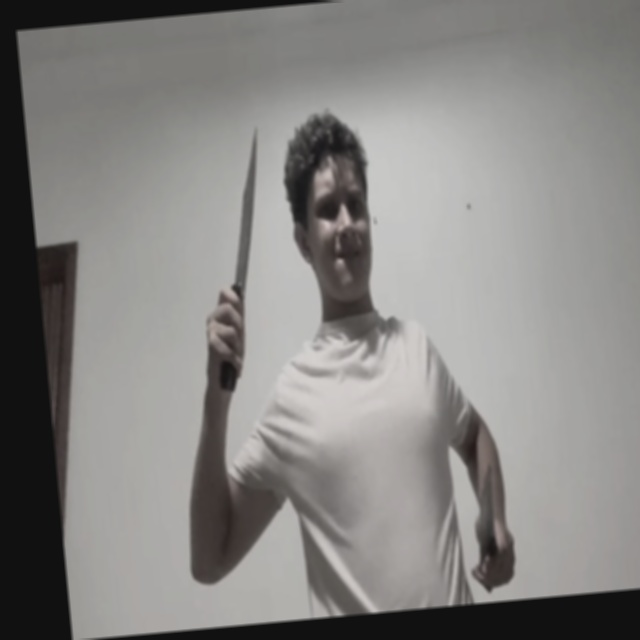Sharp-Object: (219, 127, 272, 291), (471, 462, 500, 564)
